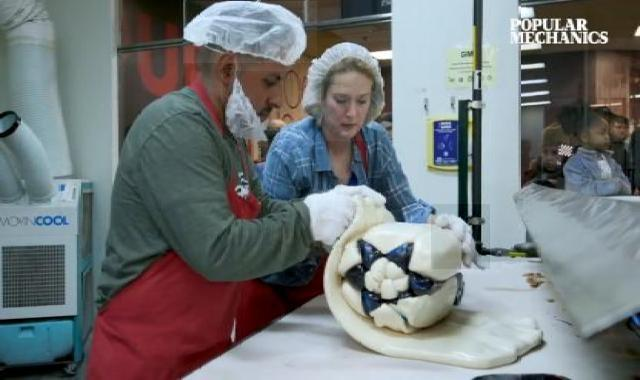apron: (294, 190, 362, 248), (431, 204, 490, 269), (335, 179, 388, 208)
gloves: (184, 1, 318, 64), (300, 38, 390, 124)
no_hairnet: (224, 71, 294, 139), (323, 86, 374, 142)
